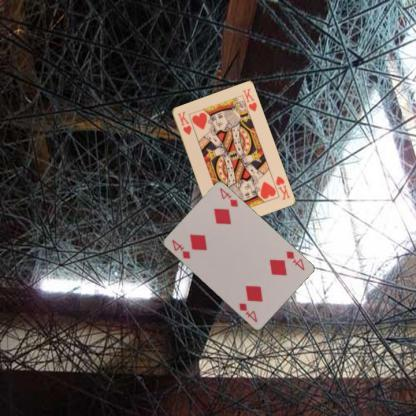4d: (283, 249, 306, 272), (170, 237, 192, 260)
Kh: (174, 108, 192, 136), (273, 173, 291, 201)
